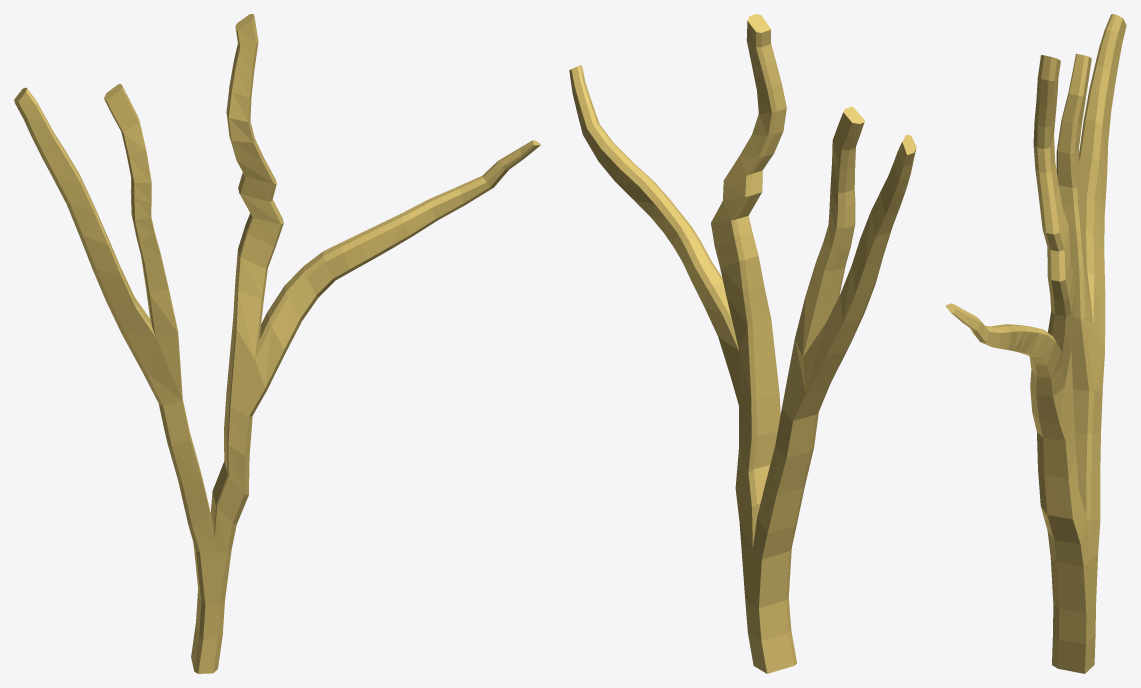
The model's file is cay.fbx.
The picture shows the model from 3 angles, left to right: view 1: azimuth 30°, elevation 25°; view 2: azimuth 150°, elevation 25°; view 3: azimuth 270°, elevation 25°; orthographic projection. The views are drawn at different scales.
Parts seen in each view (by area): view 1: cay4, cay2, cay3, cay, cay1; view 2: cay4, cay3, cay2, cay, cay1; view 3: cay4, cay, cay3, cay1, cay2.
Part boxes in pixels (x1,y1,x2,y2): cay4: [143, 318, 266, 673]; cay2: [255, 140, 540, 390]; cay3: [226, 14, 283, 359]; cay: [14, 87, 155, 373]; cay1: [104, 84, 177, 336]; cay4: [731, 319, 830, 673]; cay3: [711, 14, 786, 350]; cay2: [569, 65, 739, 378]; cay: [803, 134, 916, 393]; cay1: [795, 106, 864, 356]; cay4: [1032, 318, 1104, 673]; cay: [1079, 14, 1126, 350]; cay3: [1033, 55, 1074, 386]; cay1: [1056, 54, 1093, 325]; cay2: [945, 303, 1064, 423].
Bounding box in the file's own units: 4.02 × 5.68 × 1.49.
1 material, 1 textured.
